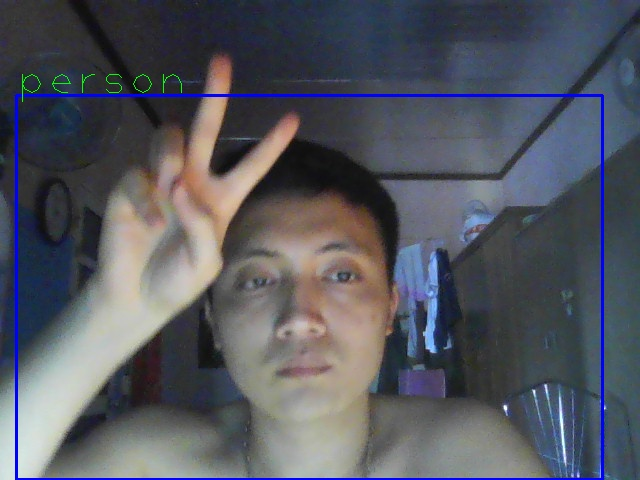person: (16, 95, 603, 480)
